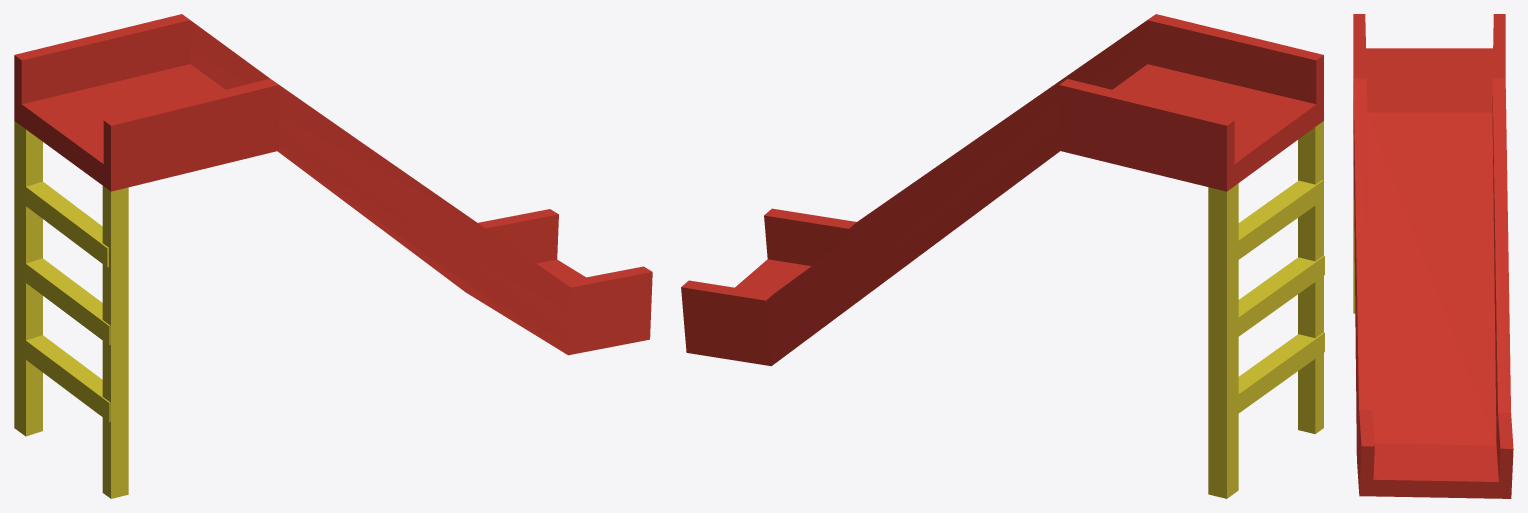
3 views of the same model, side by side, from view 1: azimuth 30°, elevation 25°; view 2: azimuth 150°, elevation 25°; view 3: azimuth 270°, elevation 25° (orthographic). The views are drawn at different scales.
Visible parts, largest first — view 1: node_MeshObject1302132032-PolyPaper8; view 2: node_MeshObject1302132032-PolyPaper8; view 3: node_MeshObject1302132032-PolyPaper8.
Part boxes in pixels (box(x1,y1,x2,y2)): node_MeshObject1302132032-PolyPaper8: box(14, 14, 652, 498); node_MeshObject1302132032-PolyPaper8: box(681, 14, 1324, 498); node_MeshObject1302132032-PolyPaper8: box(1353, 14, 1513, 498).
Bounding box in the file's own units: 0.2615 × 0.17 × 0.0841.
